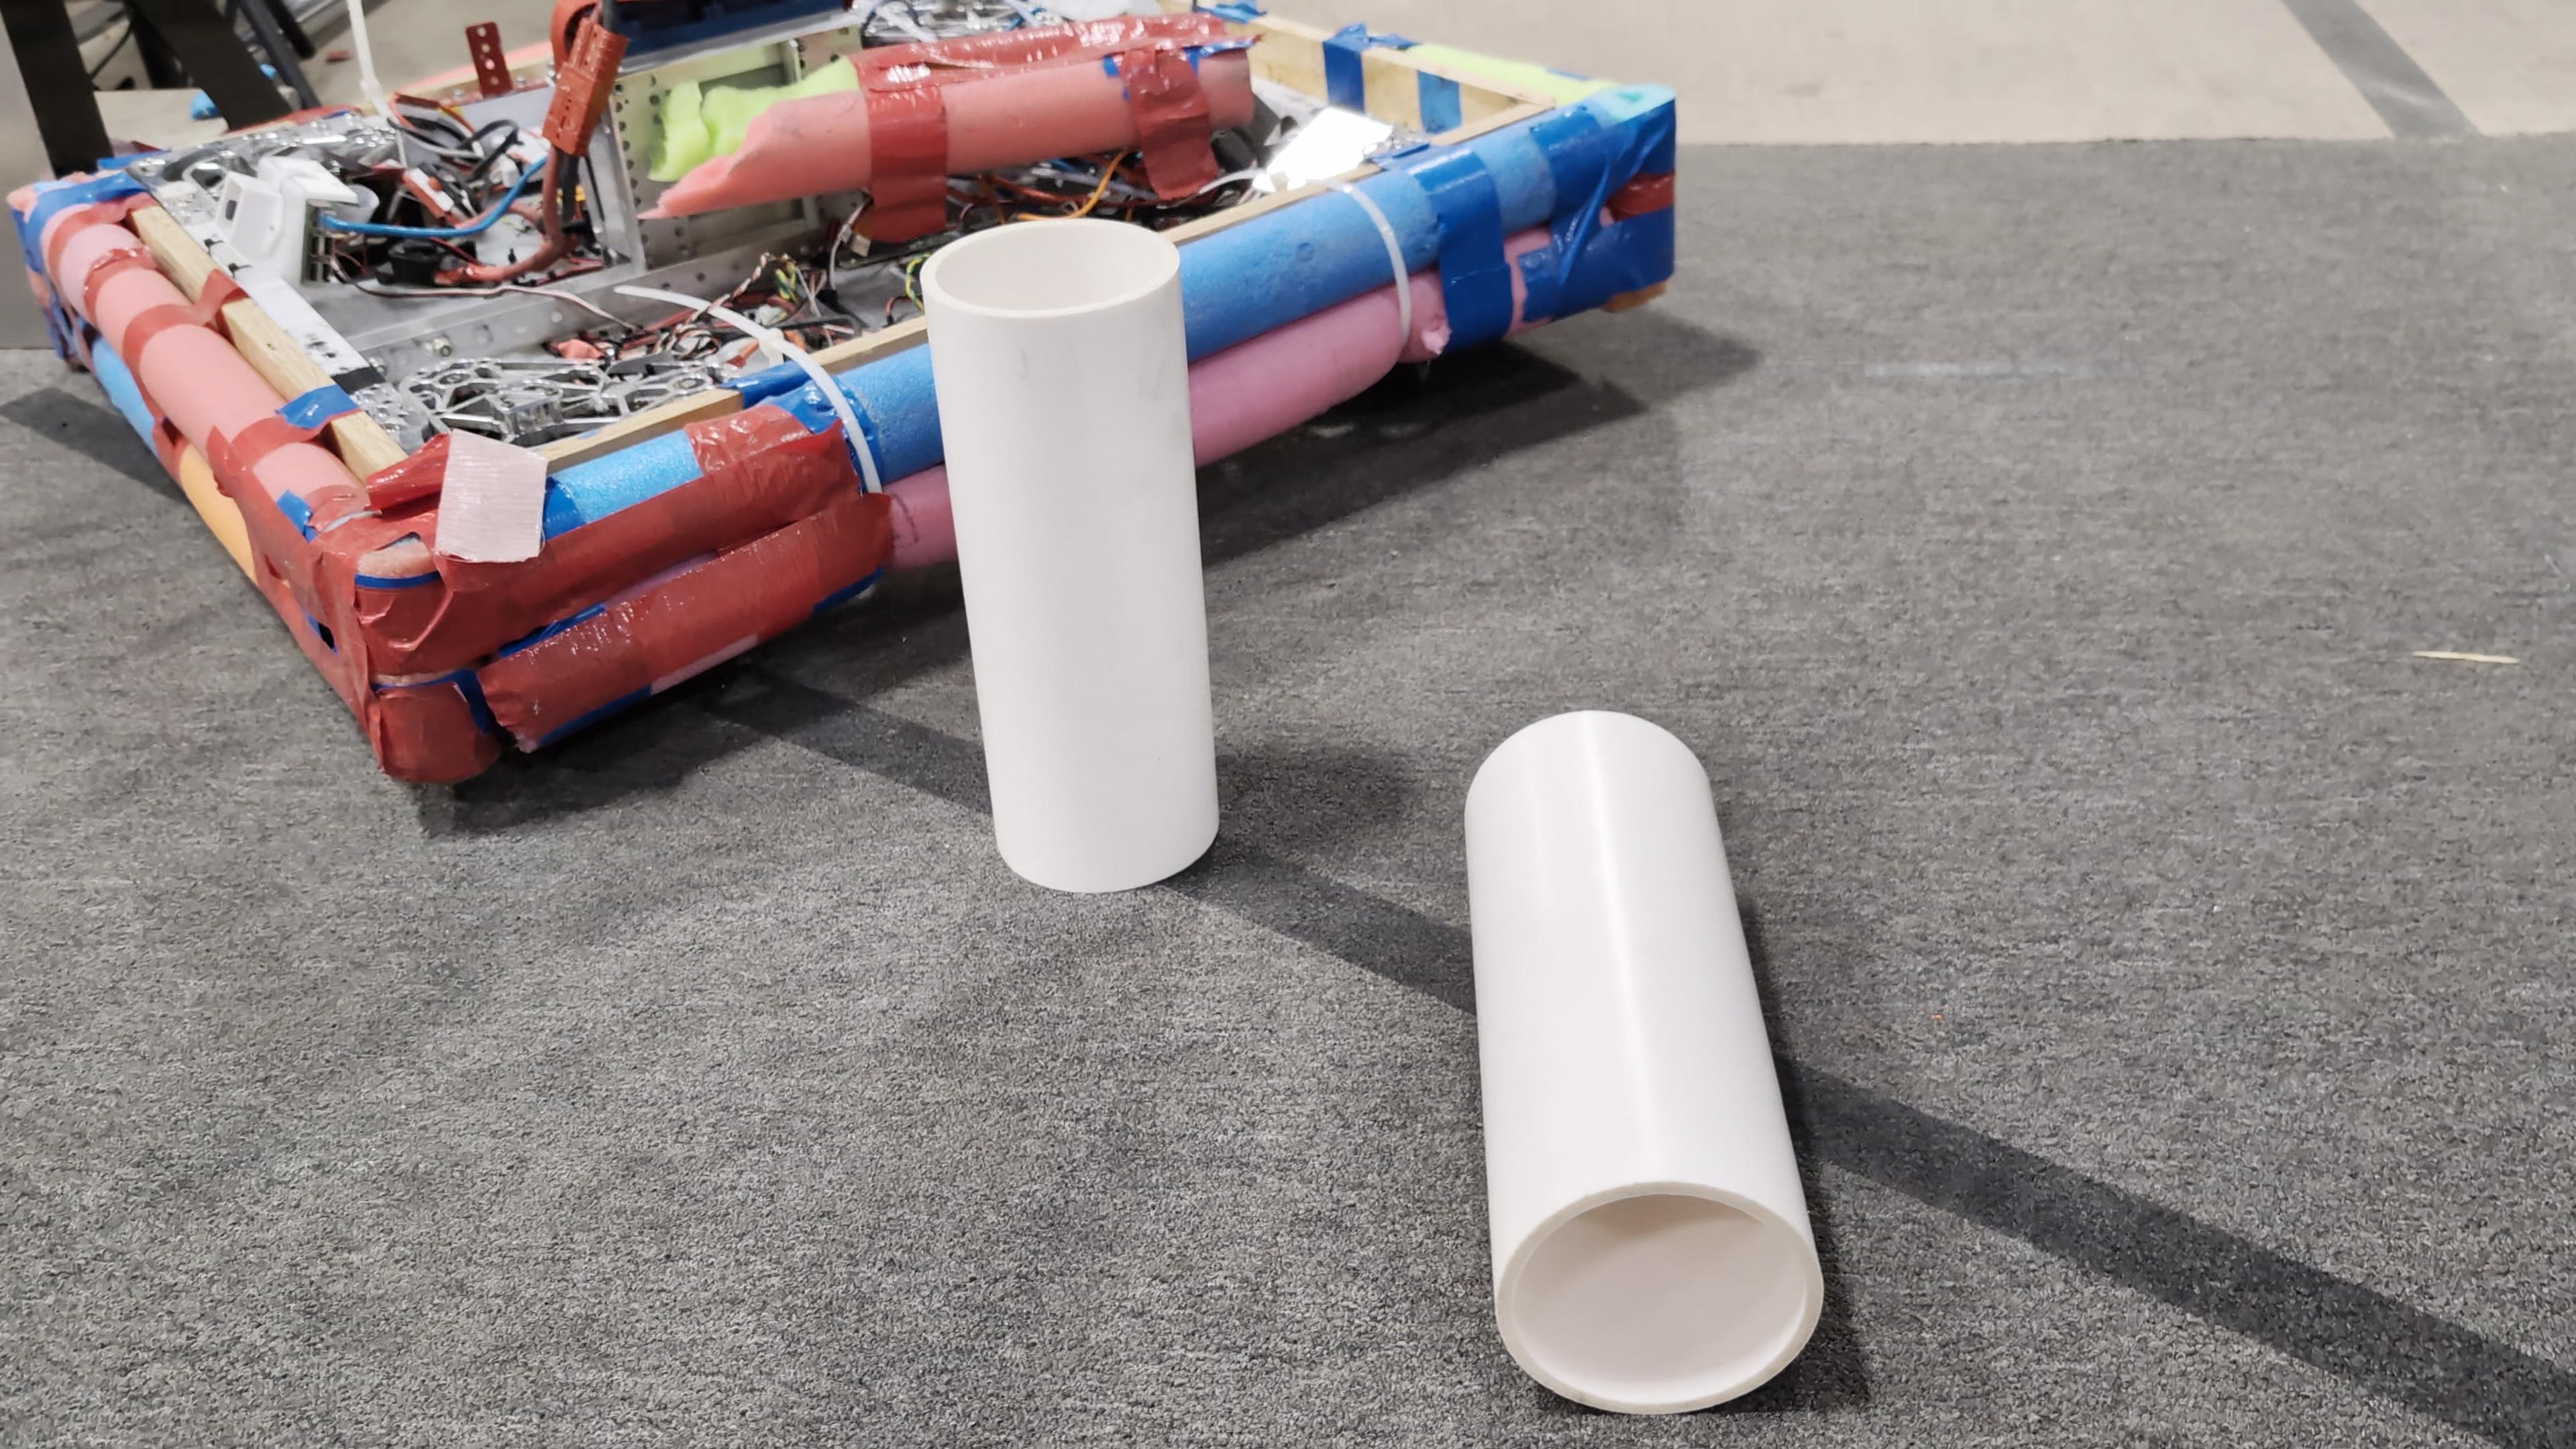coral: (1460, 708, 1826, 1415), (915, 209, 1224, 895)
